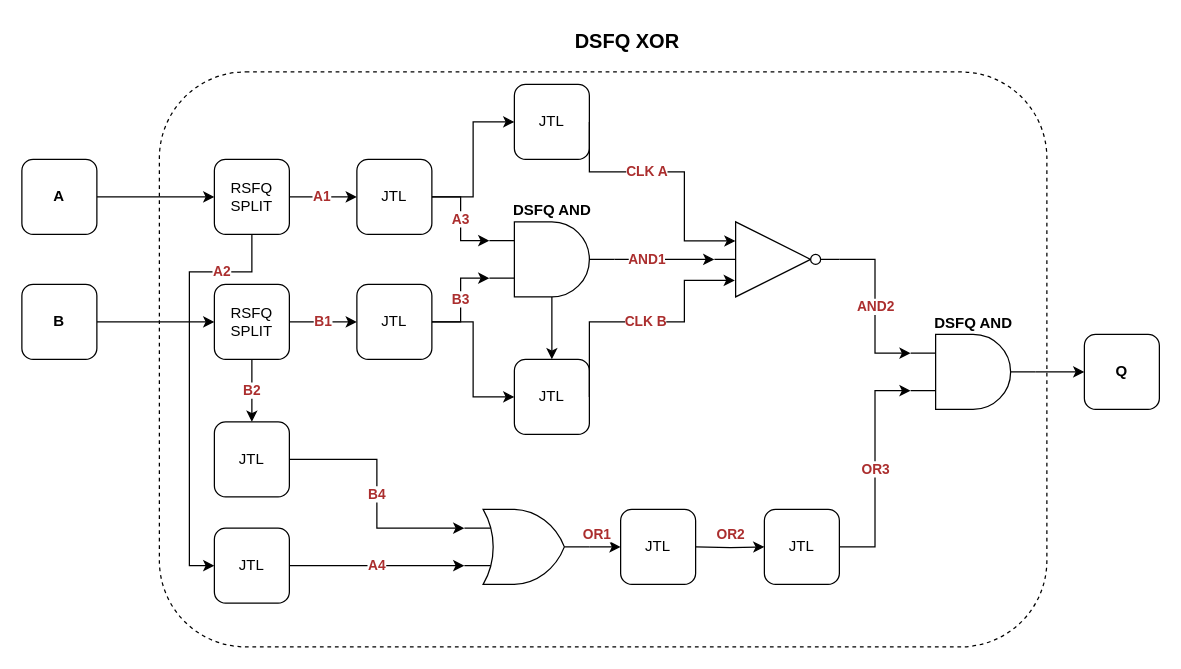
Image size: 1181x669. Some labels were removed from this diagram. The box of each missing label's shape, as (x1, y1, x2, y2) in pixels:
DSFQ NOT: (713, 221, 839, 297)
DSFQ OR: (463, 508, 589, 584)
